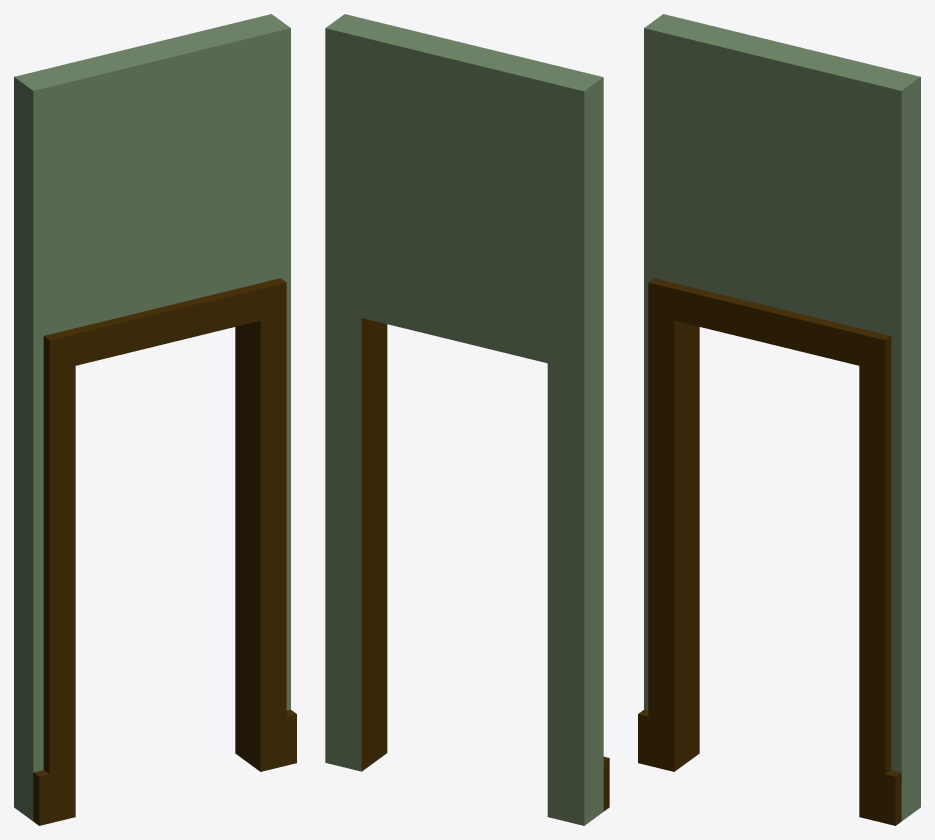
The model's file is Ma_Wall_Door.fbx.
3 views of the same model, side by side, from view 1: azimuth 30°, elevation 25°; view 2: azimuth 150°, elevation 25°; view 3: azimuth 330°, elevation 25° (orthographic).
Parts seen in each view (by area): view 1: Ma_Wall_Door; view 2: Ma_Wall_Door; view 3: Ma_Wall_Door.
Part boxes in pixels (x1,y1,x2,y2): Ma_Wall_Door: [14, 14, 296, 825]; Ma_Wall_Door: [325, 14, 609, 825]; Ma_Wall_Door: [638, 14, 920, 825].
Size of the model in its own units: 1000 by 170 by 2711.
